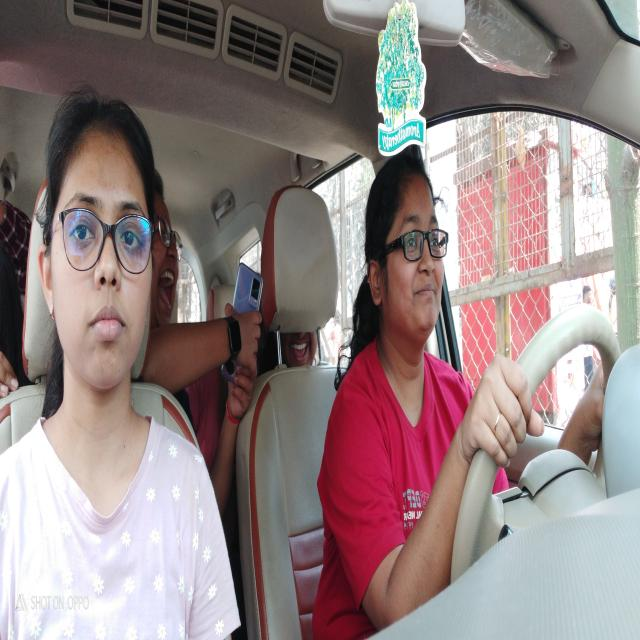mobile: (229, 255, 265, 371)
person: (40, 90, 156, 400), (365, 158, 450, 361), (150, 156, 187, 323)
